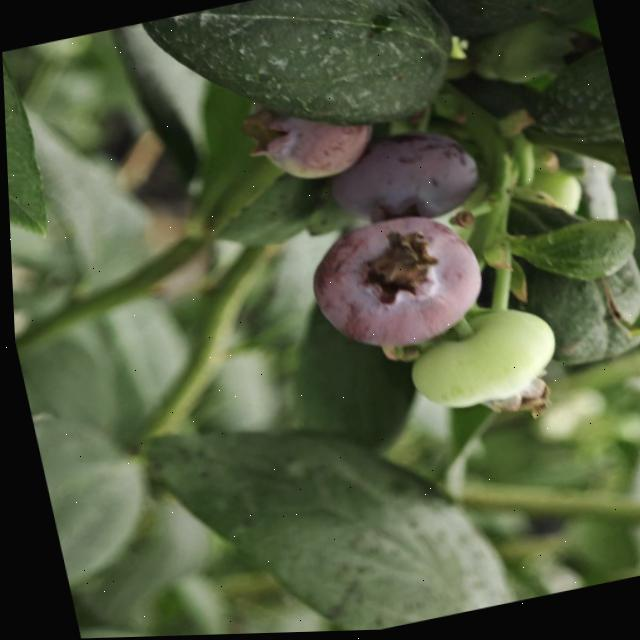Semi-RipeBlueBerry: (294, 205, 490, 363), (318, 124, 483, 238), (241, 90, 381, 191)
UnripeBlueBerry: (392, 302, 563, 421)
